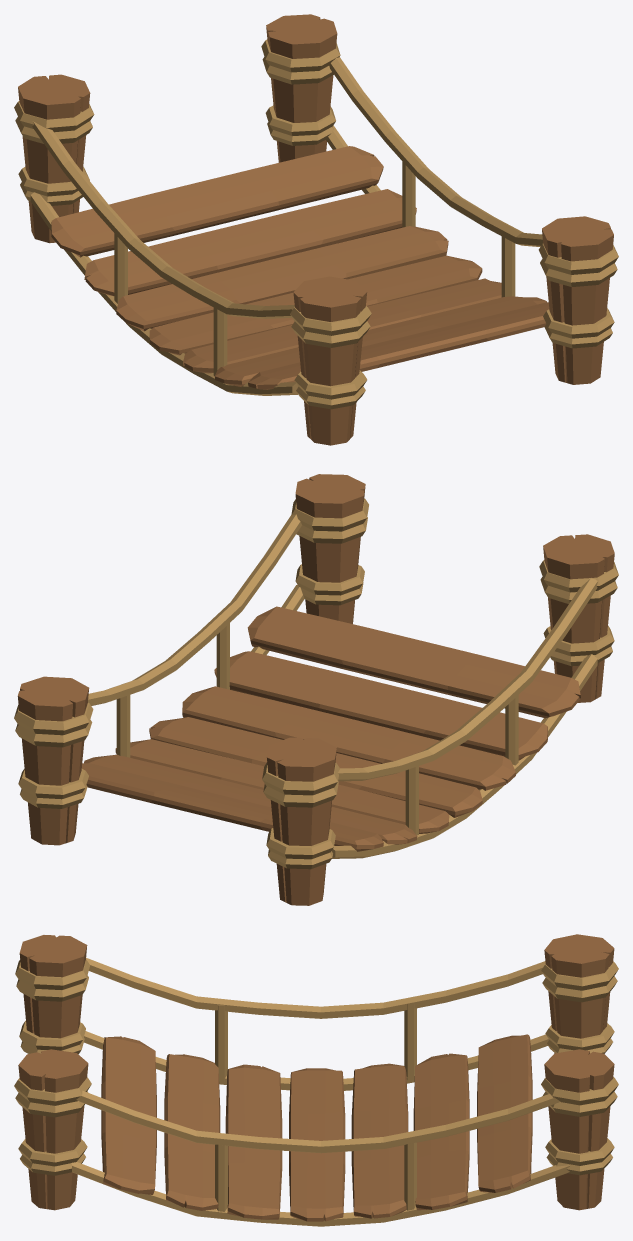
The model's file is Bridge.fbx.
The picture shows the model from 3 angles, top to bottom: view 1: azimuth 30°, elevation 25°; view 2: azimuth 150°, elevation 25°; view 3: azimuth 270°, elevation 25°; orthographic projection. The views are drawn at different scales.
Parts seen in each view (by area): view 1: bridge; view 2: bridge; view 3: bridge.
Part boxes in pixels (x1,y1,x2,y2): bridge: (14, 14, 618, 445); bridge: (14, 474, 618, 905); bridge: (14, 934, 618, 1226).
Size of the model in its own units: 544 by 261 by 929.
